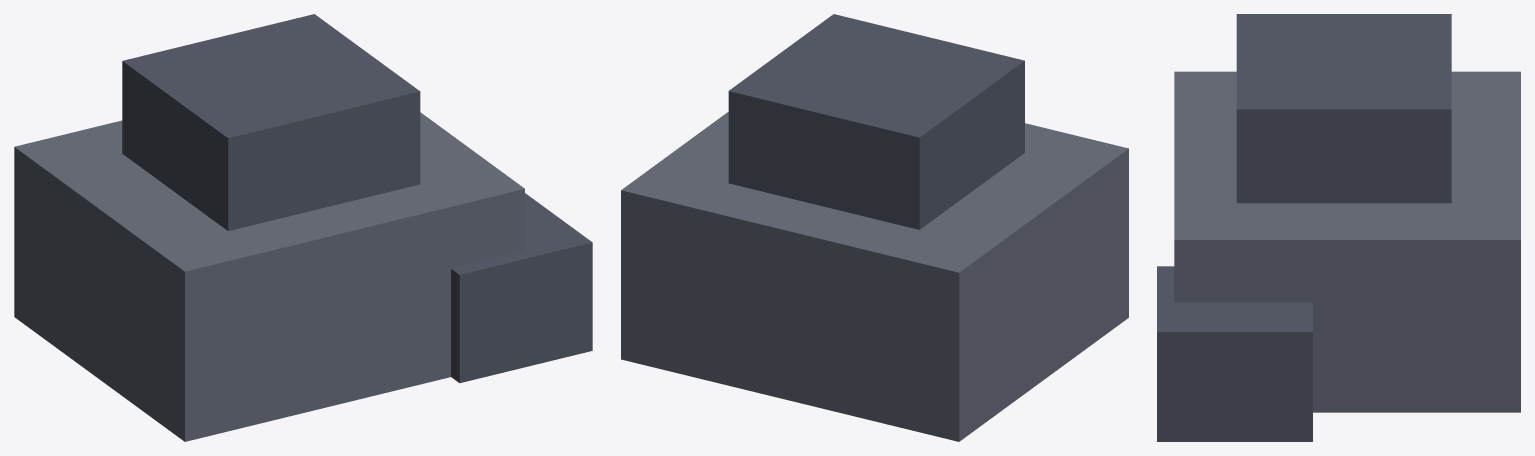
Rendered from rock.glb.
3 views of the same model, side by side, from view 1: azimuth 30°, elevation 25°; view 2: azimuth 150°, elevation 25°; view 3: azimuth 270°, elevation 25° (orthographic). The views are drawn at different scales.
Visible parts, largest first — view 1: rock; view 2: rock; view 3: rock.
Boxes of the visible parts, x1,y1,x2,y2 form: rock: (14,14,592,441); rock: (621,14,1128,441); rock: (1157,14,1520,441).
Size of the model in its own units: 1.35 by 0.85 by 1.05.
1 material, 1 textured.
